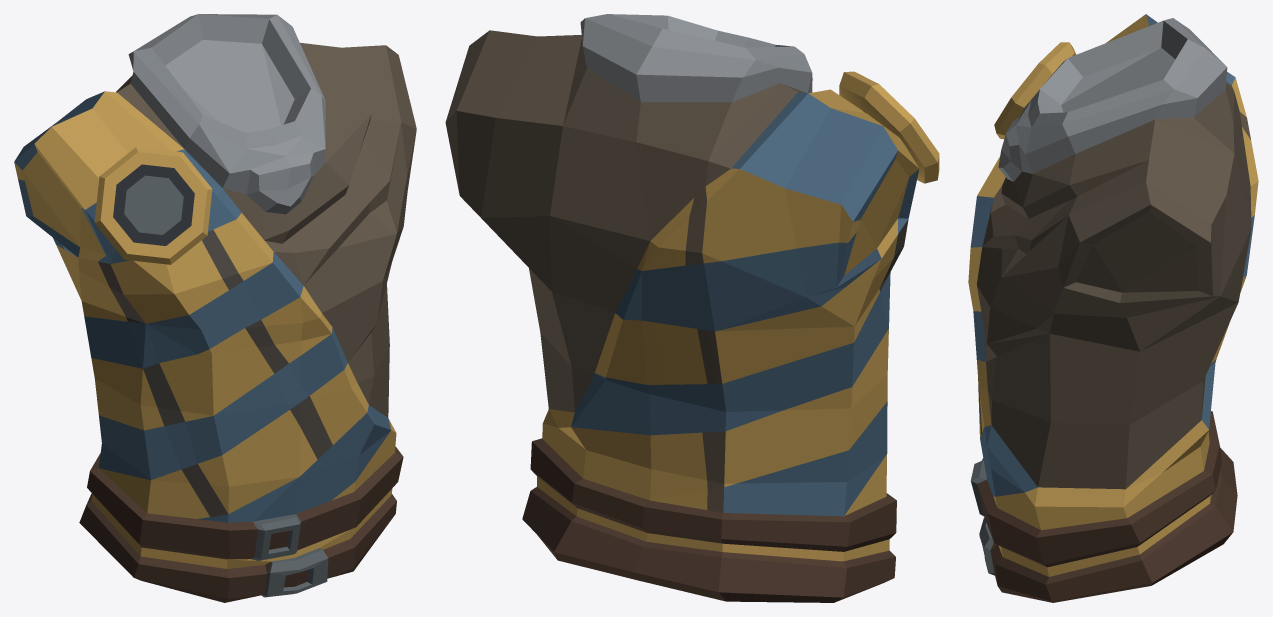
Rendered from Chr_Torso_Male_26_Static.fbx.
The picture shows the model from 3 angles, left to right: view 1: azimuth 30°, elevation 25°; view 2: azimuth 150°, elevation 25°; view 3: azimuth 270°, elevation 25°; orthographic projection. The views are drawn at different scales.
Parts seen in each view (by area): view 1: Chr_Torso_Male_26_Static; view 2: Chr_Torso_Male_26_Static; view 3: Chr_Torso_Male_26_Static.
Part boxes in pixels (bbox=[...]): Chr_Torso_Male_26_Static: bbox=[14, 14, 416, 602]; Chr_Torso_Male_26_Static: bbox=[445, 14, 939, 602]; Chr_Torso_Male_26_Static: bbox=[968, 14, 1258, 602].
Size of the model in its own units: 0.502 by 0.6735 by 0.3371.
